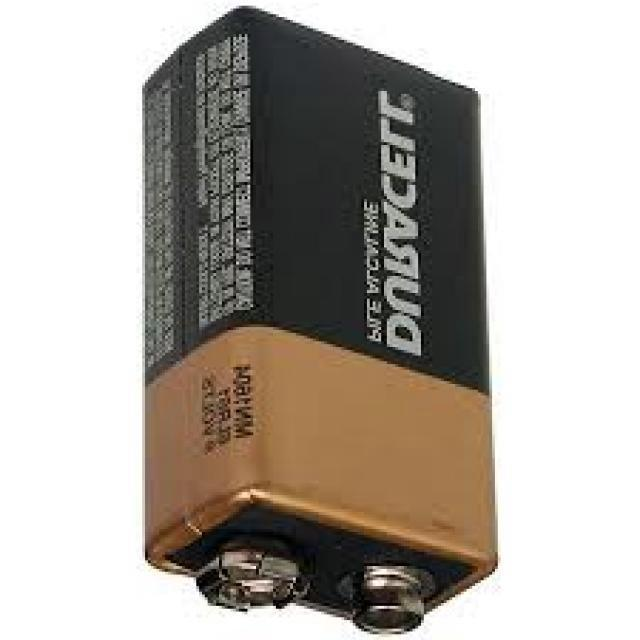battery: (141, 6, 500, 635)
